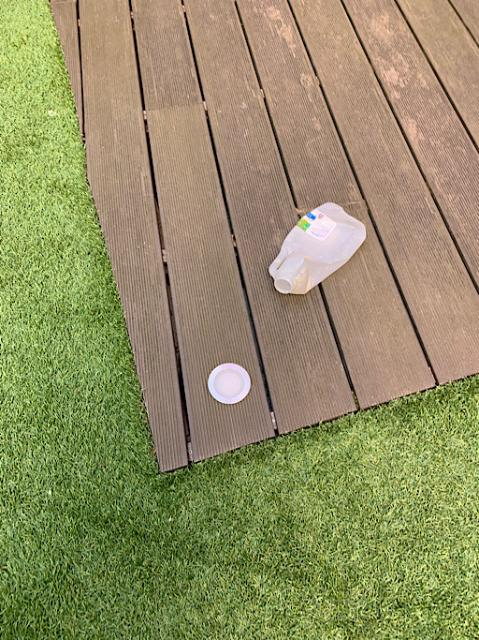plastic: (268, 201, 365, 292)
